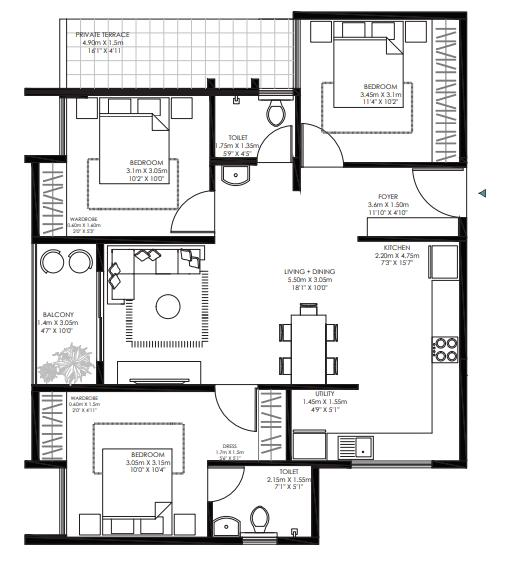Balcony: (36, 247, 98, 384)
Bed: (101, 449, 175, 536), (332, 20, 404, 108), (100, 98, 169, 182)
Bedroom: (68, 392, 207, 537), (299, 22, 432, 165), (67, 102, 209, 234)
Dining Room: (238, 236, 358, 384)
Dining table: (266, 295, 352, 387)
Foyer: (302, 171, 468, 237)
Kitchen: (362, 243, 461, 463)
Living Room: (109, 250, 235, 378), (215, 172, 298, 236)
Sofa: (112, 248, 202, 275), (112, 250, 136, 301)
Terrace: (63, 18, 293, 85)
Wardrobe: (433, 20, 459, 166), (258, 386, 292, 459), (42, 159, 67, 238), (39, 392, 66, 458)
commode: (251, 509, 268, 535), (269, 100, 284, 126)
door: (413, 170, 466, 216), (171, 191, 214, 233), (216, 386, 256, 431), (302, 124, 342, 167), (258, 125, 293, 162), (205, 465, 242, 498)
dress: (208, 391, 286, 459)
kitchen-slab: (432, 279, 458, 463), (327, 433, 458, 464)
sink: (336, 433, 373, 463), (225, 166, 247, 184), (213, 520, 237, 535)
stove: (431, 336, 459, 363)
toilet: (208, 466, 313, 539), (213, 97, 295, 164)
tv: (126, 363, 192, 388)
utility: (291, 390, 373, 462)
